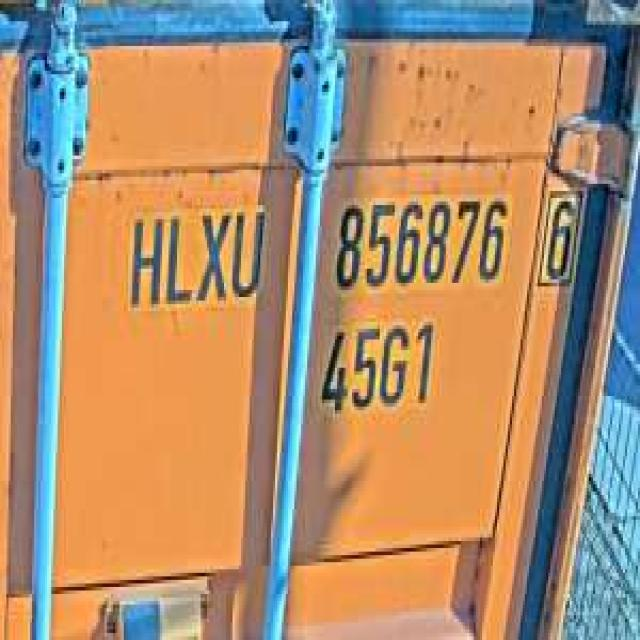dv: (534, 180, 584, 297)
owner: (119, 194, 271, 314)
serial: (326, 184, 512, 300)
size: (314, 311, 437, 417)
